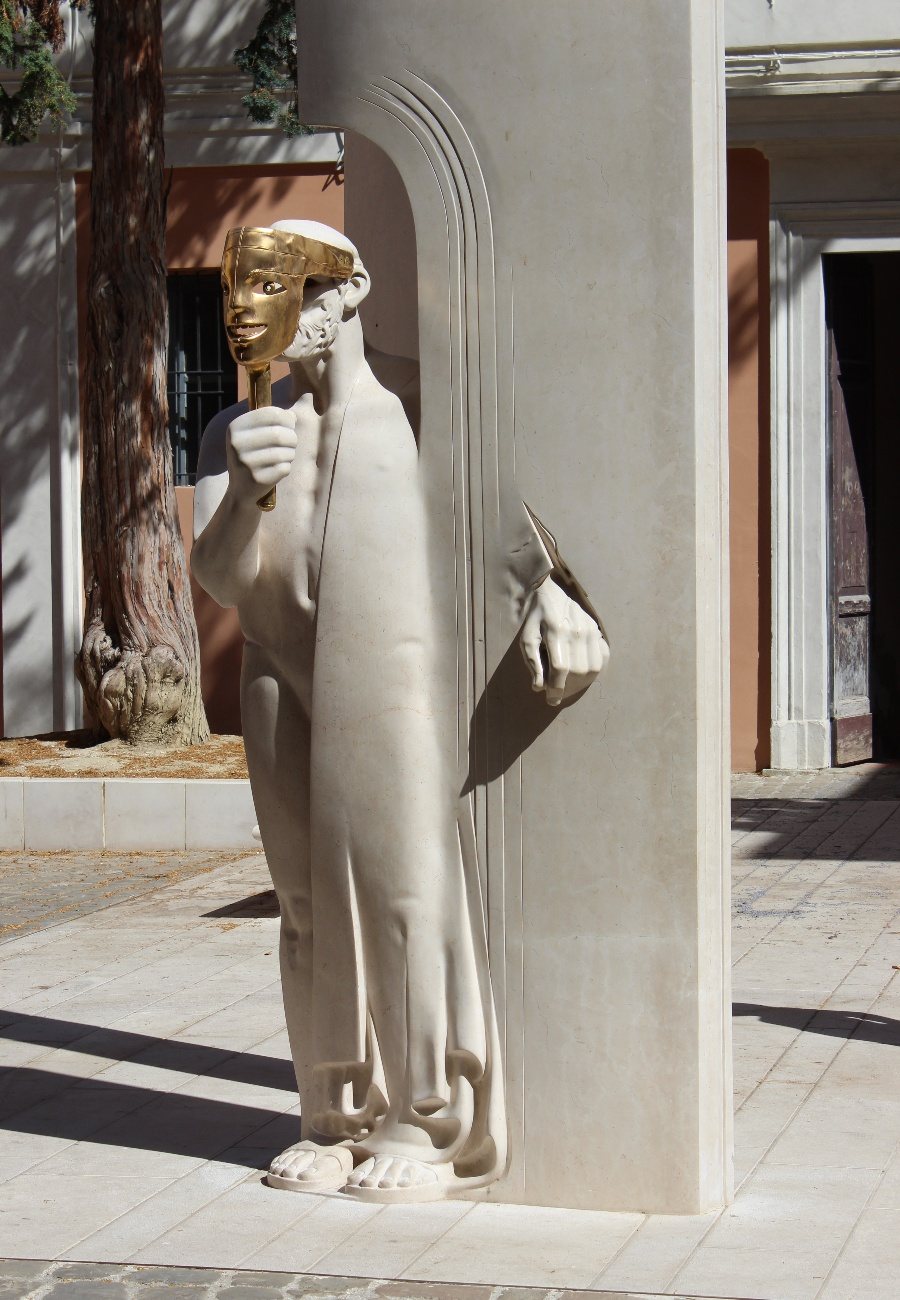Scultura della Memoria: (194, 218, 617, 1200)
